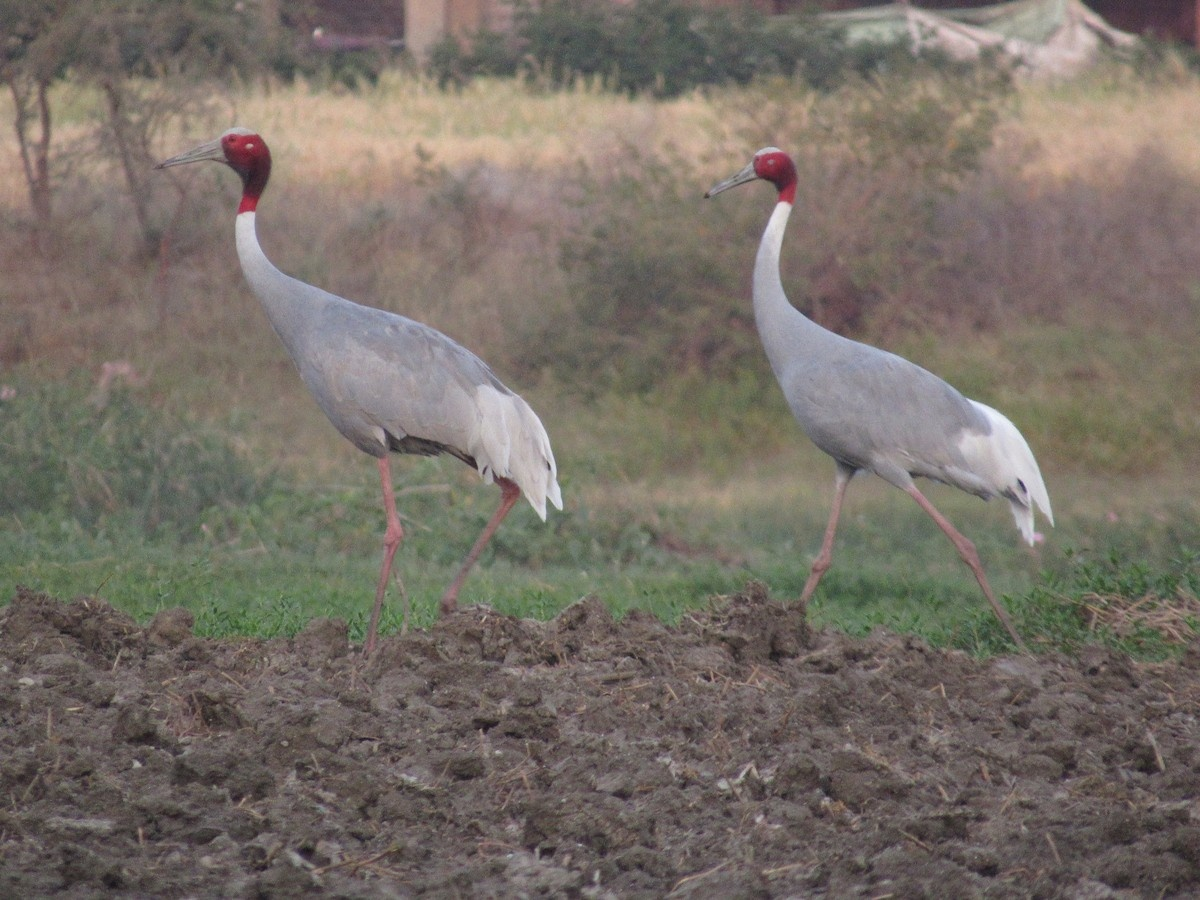crane: (157, 121, 623, 625), (713, 133, 1090, 657)
